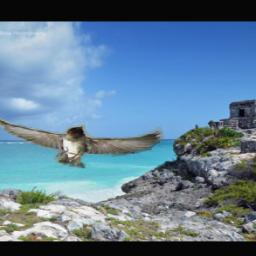Swallow: (0, 112, 165, 169)
